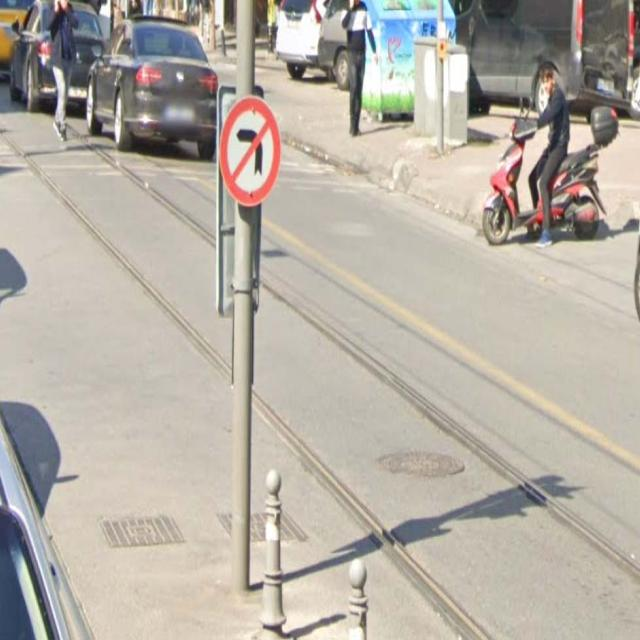soladonulmez: (218, 96, 281, 206)
